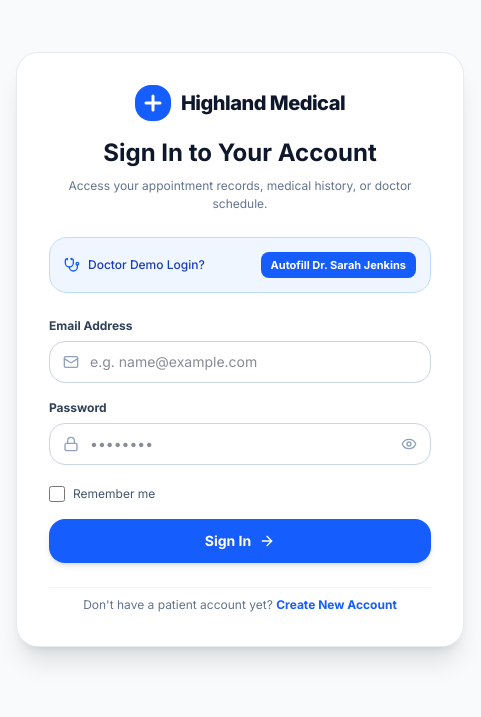
it: client page flows › shows sign-in API errors without navigating
In the field with placeholder "e.g. name@example.com": point(240, 362) [49,340,431,382], type "pat@example.com"
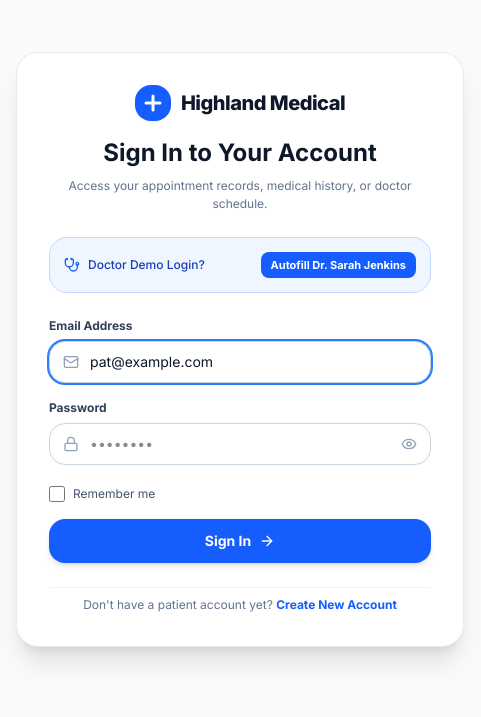
In the password field with placeholder "••••••••": point(240, 444) [49,422,431,464], type "wrong-password"
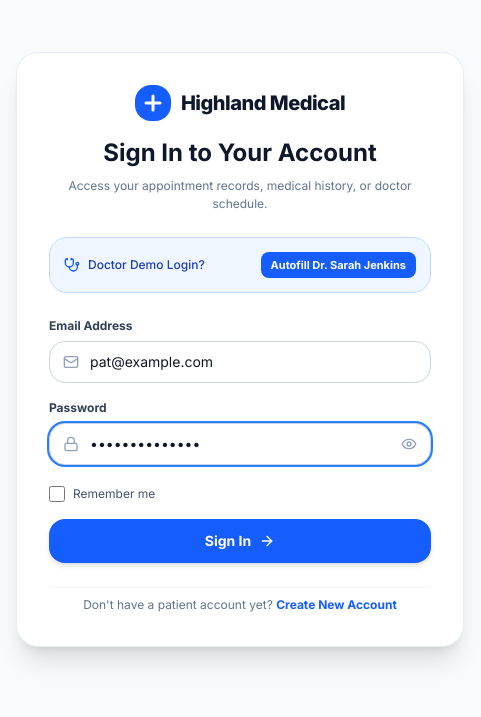
Click the button "Sign In": point(240, 540) [49,518,431,562]
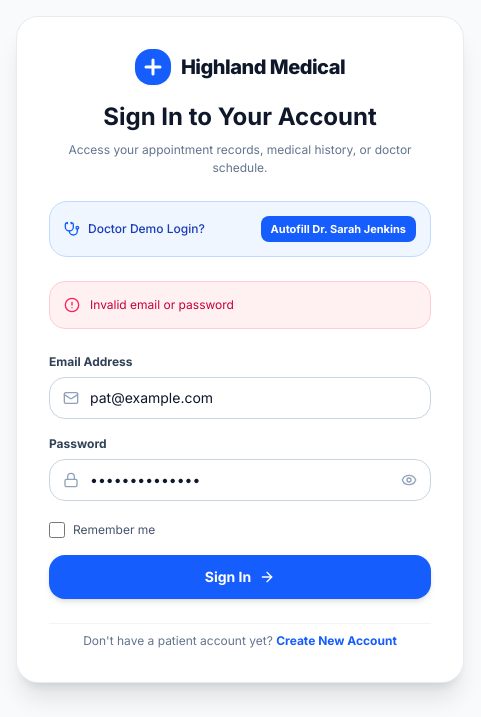
Expected: the text "Invalid email or password" is shown, [90,296,234,314]
